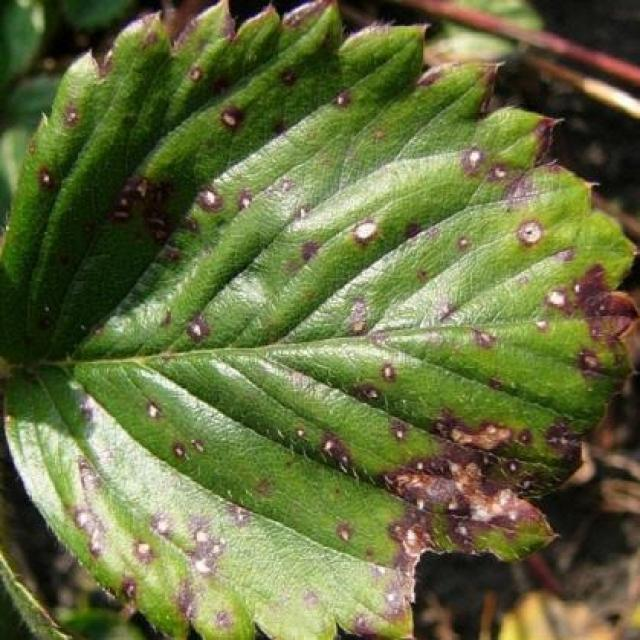Leaf Spot: (0, 0, 638, 638)
